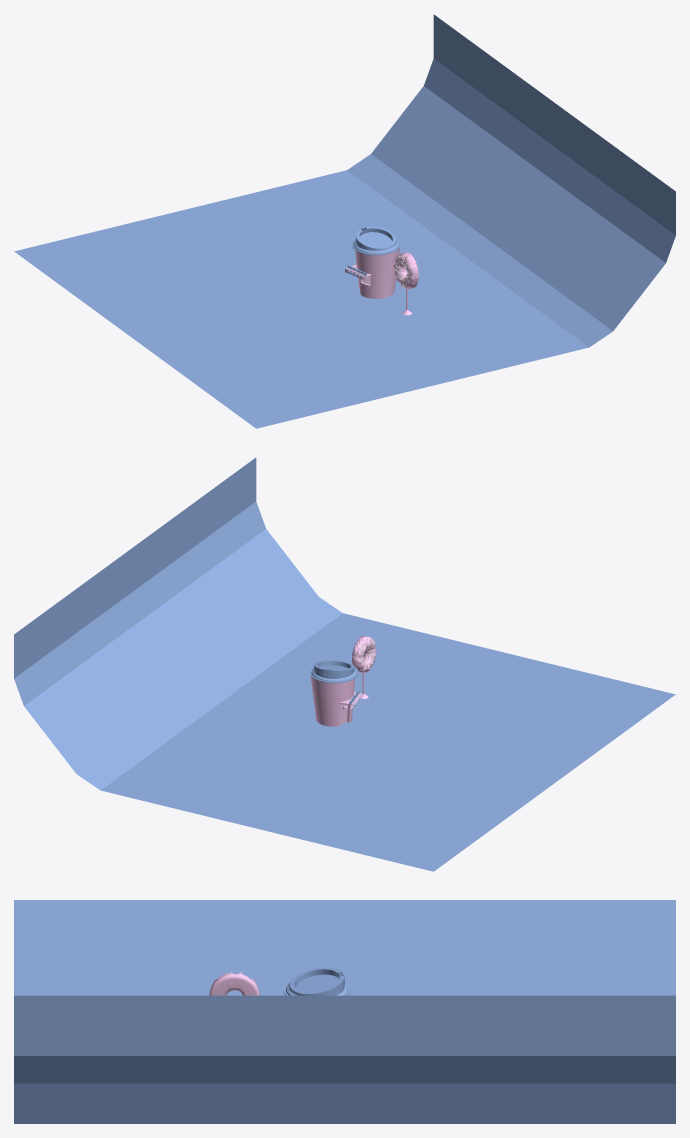
The model's file is donut.glb.
The picture shows the model from 3 angles, top to bottom: view 1: azimuth 30°, elevation 25°; view 2: azimuth 150°, elevation 25°; view 3: azimuth 270°, elevation 25°; orthographic projection. The views are drawn at different scales.
Parts seen in each view (by area): view 1: Plane, Circle, Circle.001; view 2: Plane, Circle, Circle.001; view 3: Plane, Circle.001, Torus.002.
Boxes of the visible parts, x1,y1,x2,y2 form: Plane: (14,14,675,428); Circle: (355,248,399,298); Circle.001: (351,226,400,255); Plane: (14,457,675,871); Circle: (310,675,354,726); Circle.001: (310,660,358,683); Plane: (14,900,675,1123); Circle.001: (283,967,350,995); Torus.002: (209,973,259,995).
Size of the model in its own units: 47.56 by 15.08 by 47.56.
